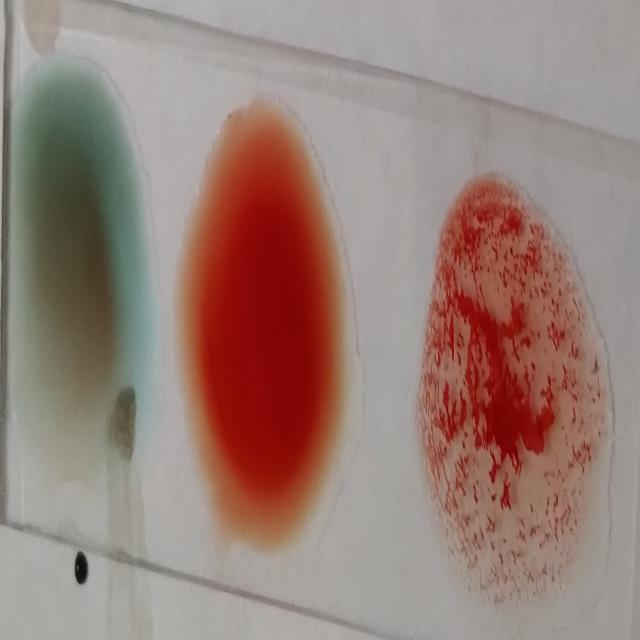D: (424, 174, 607, 617)
